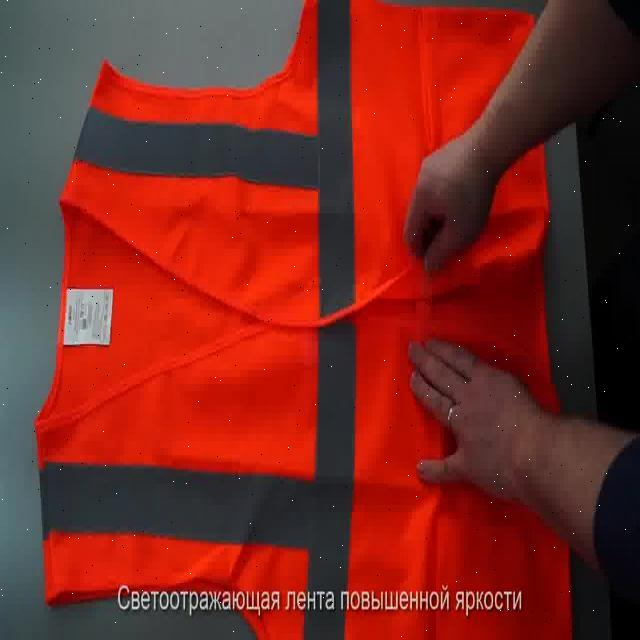Vest: (32, 0, 574, 640)
